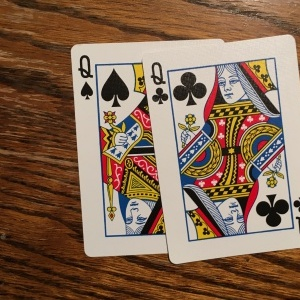card: (70, 43, 152, 257)
